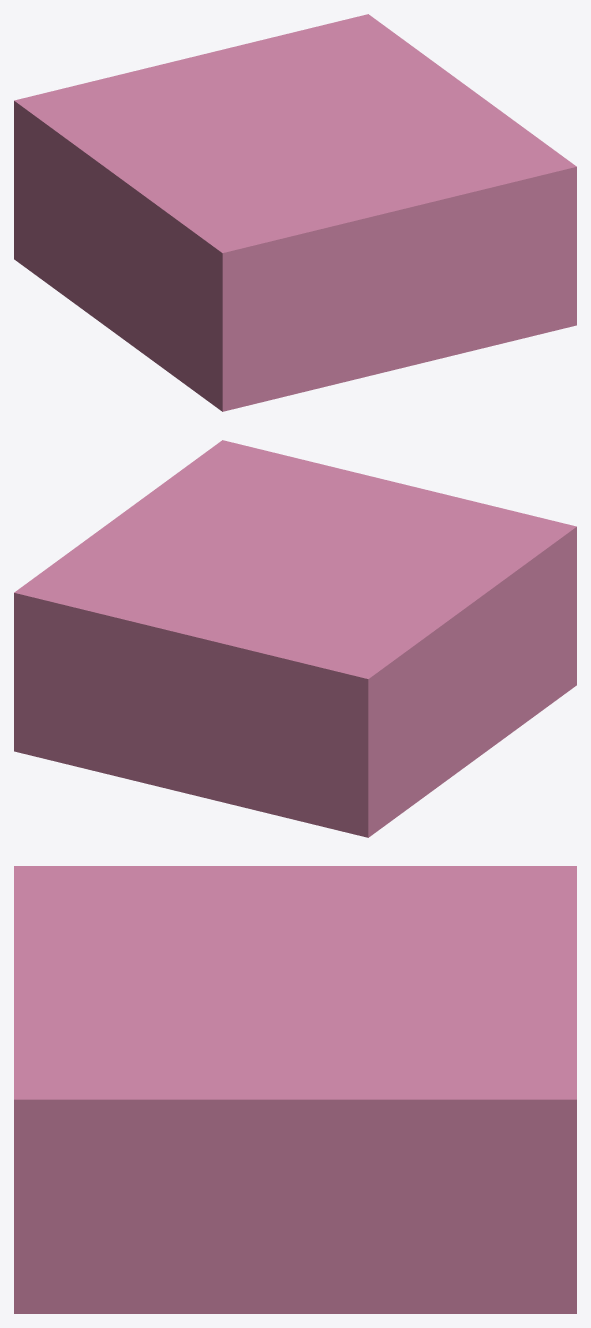
Rendered from lush_ferns_01_b.dae.
3 views of the same model, one above another, from view 1: azimuth 30°, elevation 25°; view 2: azimuth 150°, elevation 25°; view 3: azimuth 270°, elevation 25° (orthographic). The views are drawn at different scales.
Parts seen in each view (by area): view 1: Untitled; view 2: Untitled; view 3: Untitled.
Boxes of the visible parts, x1,y1,x2,y2 form: Untitled: (14,14,576,411); Untitled: (14,440,576,837); Untitled: (14,866,576,1313).
Size of the model in its own units: 1.7 by 1.74 by 0.7963.
